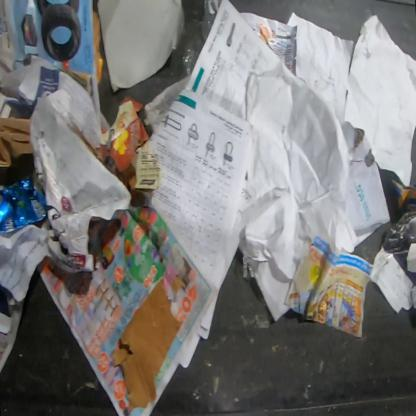cardboard: (94, 94, 162, 196)
metal: (0, 179, 46, 233)
soft_plastic: (182, 0, 224, 74)
